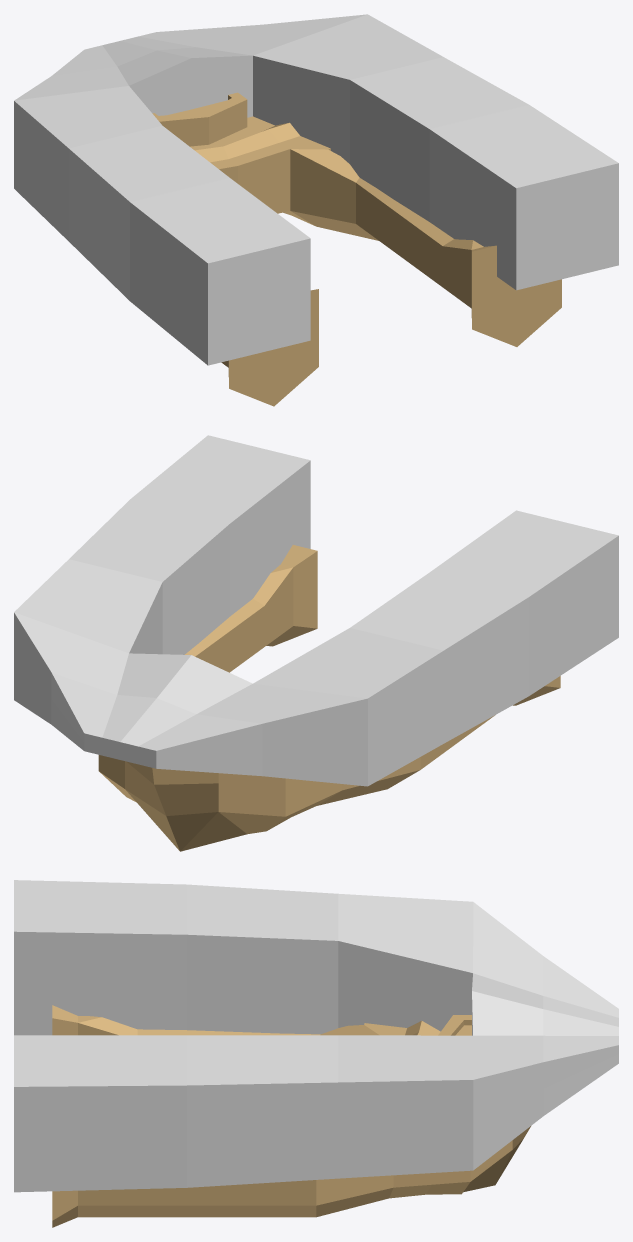
The model's file is archway.fbx.
3 renders of one model, top to bottom at view 1: azimuth 30°, elevation 25°; view 2: azimuth 150°, elevation 25°; view 3: azimuth 270°, elevation 25°, orthographic. The views are drawn at different scales.
Visible parts, largest first — view 1: Cube, Archway; view 2: Cube, Archway; view 3: Cube, Archway.
Boxes of the visible parts, x1,y1,x2,y2 form: Cube: [14, 14, 618, 365]; Archway: [152, 92, 561, 406]; Cube: [14, 435, 618, 786]; Archway: [98, 545, 560, 851]; Cube: [14, 880, 618, 1192]; Archway: [52, 1005, 530, 1227].
Bounding box in the file's own units: 1436 × 653 × 1775.
